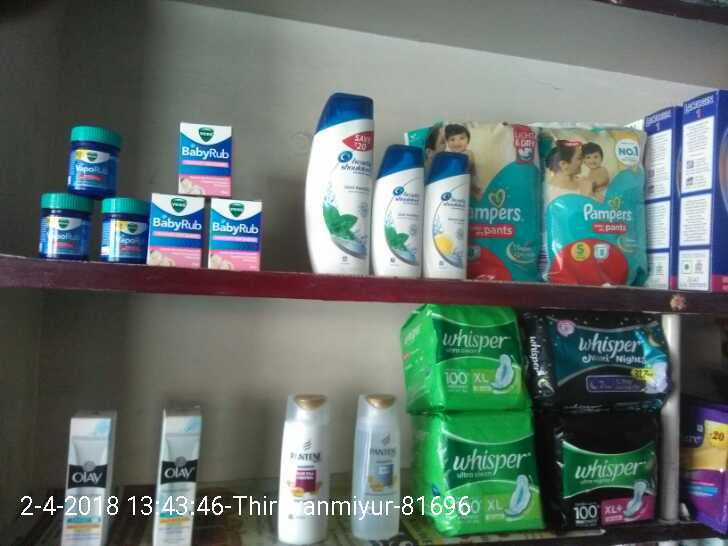vicks: (153, 196, 206, 267), (39, 192, 94, 260), (179, 122, 230, 195), (210, 201, 263, 267), (69, 124, 119, 189), (99, 198, 151, 260)
